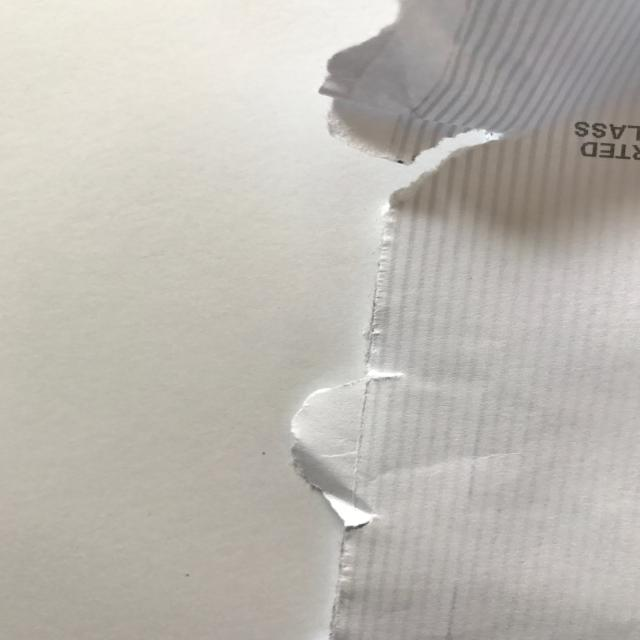paper: (320, 0, 640, 640)
